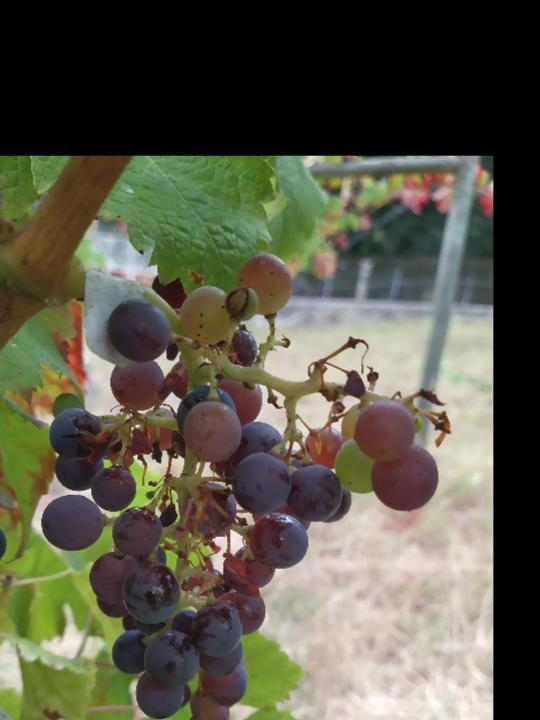grape: (33, 248, 442, 720)
